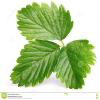Strawberry leaf: (8, 38, 63, 89), (14, 0, 74, 41), (56, 41, 97, 90)
